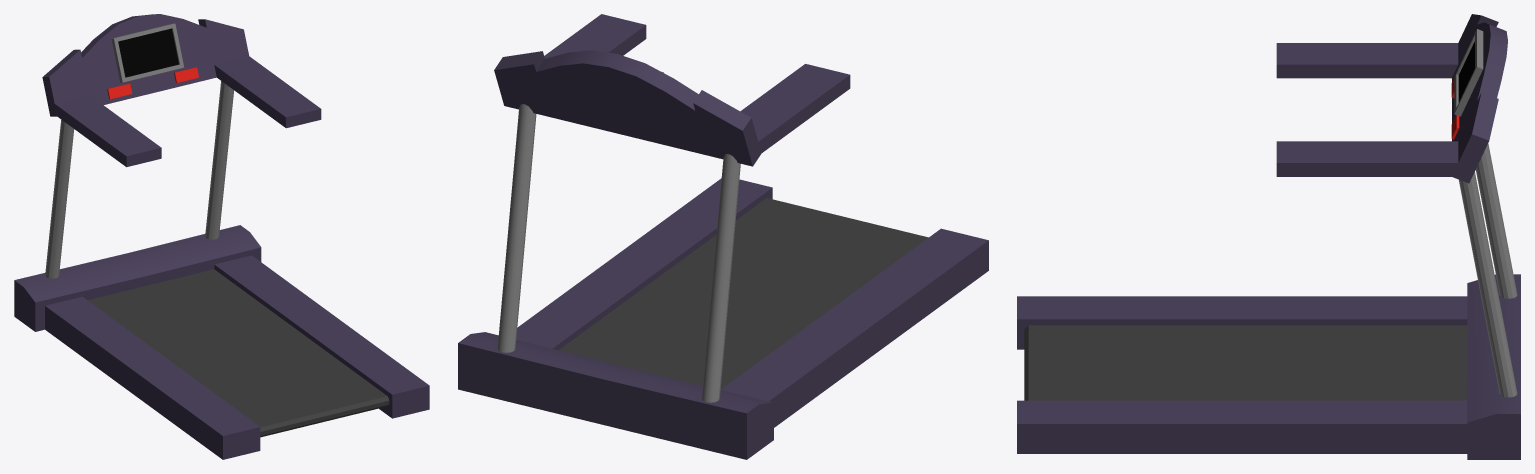
File: kosu_bandi.fbx
3 renders of one model, left to right at view 1: azimuth 30°, elevation 25°; view 2: azimuth 150°, elevation 25°; view 3: azimuth 270°, elevation 25°, orthographic. The views are drawn at different scales.
Visible parts, largest first — view 1: kosu_bandi; view 2: kosu_bandi; view 3: kosu_bandi.
Boxes of the visible parts, x1,y1,x2,y2 form: kosu_bandi: (14, 14, 429, 459); kosu_bandi: (458, 14, 988, 459); kosu_bandi: (1017, 14, 1520, 459).
Bounding box in the file's own units: 4.31 × 5.13 × 6.57.
